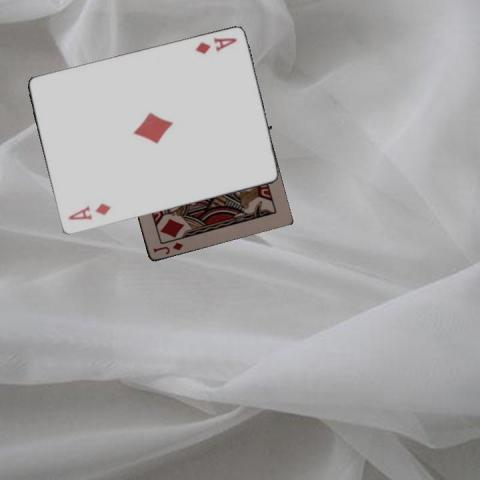Ad: (65, 201, 112, 222), (192, 35, 238, 56)
Jd: (150, 239, 184, 256)
